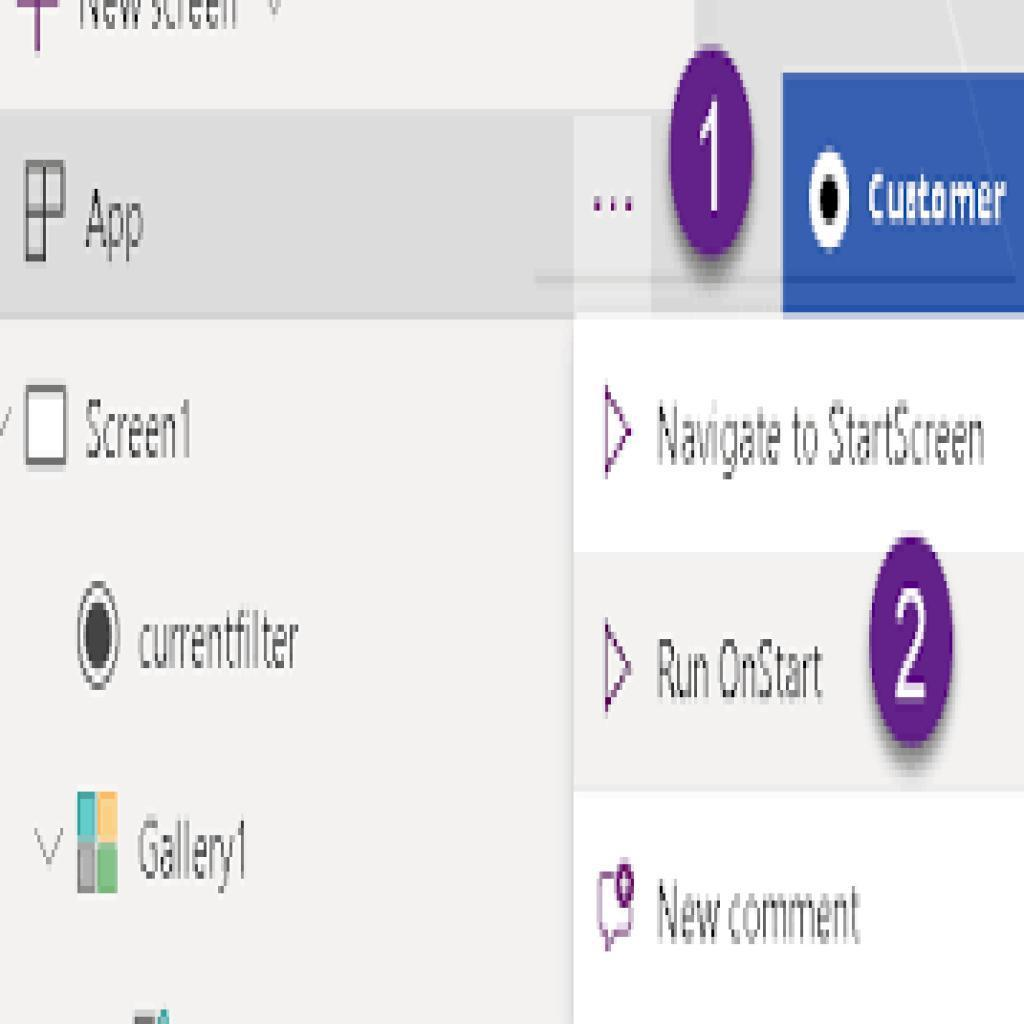checkbox: (28, 387, 66, 465)
icon: (17, 152, 72, 269), (71, 787, 124, 901), (592, 857, 640, 959), (595, 380, 639, 486), (598, 620, 641, 721), (584, 185, 638, 226), (30, 821, 69, 873)
label: (650, 397, 1001, 480), (648, 630, 841, 715), (655, 877, 871, 950), (144, 606, 309, 680), (80, 391, 205, 475), (137, 810, 254, 896), (864, 165, 1011, 231), (82, 182, 154, 263)
radio: (74, 578, 124, 692), (808, 151, 855, 257)
